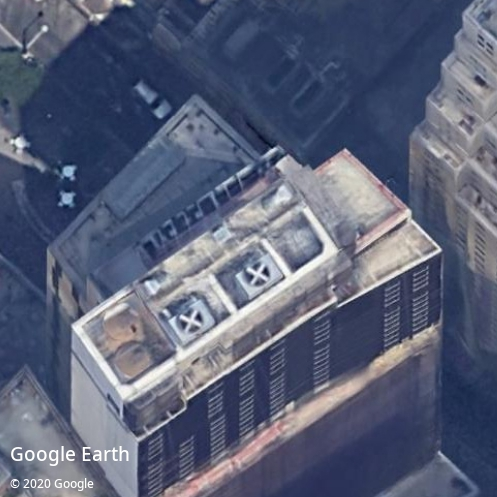Vent: (178, 308, 203, 334), (245, 262, 270, 287)
